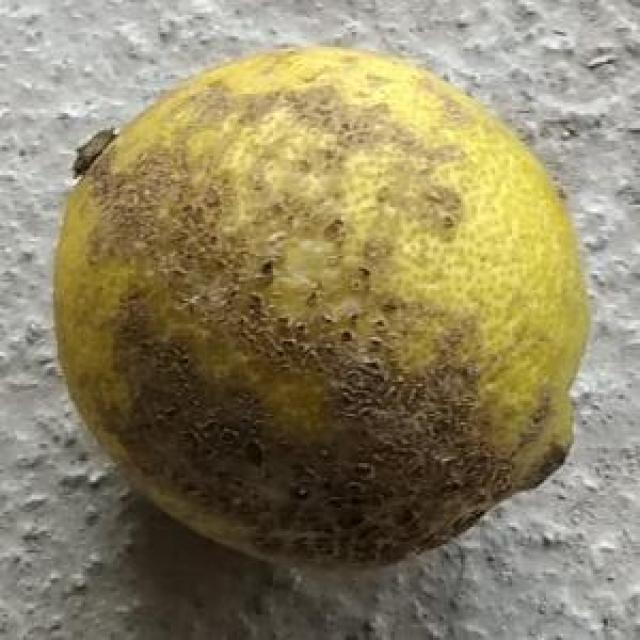lemon: (42, 48, 590, 568)
